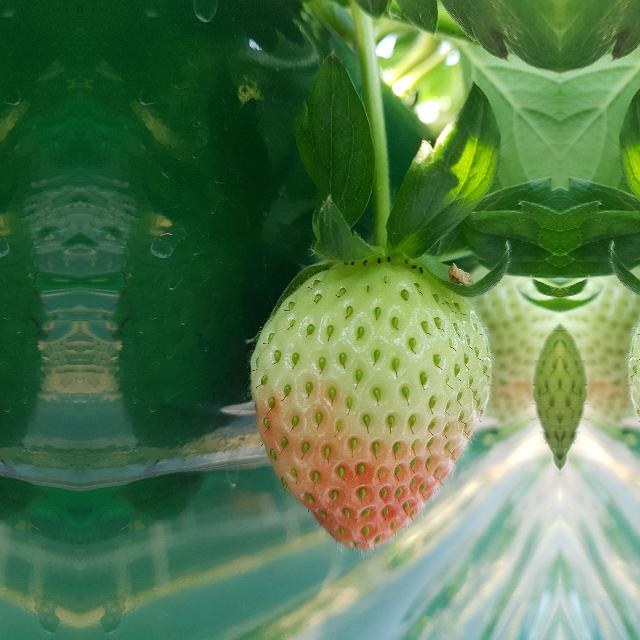Health_50: (248, 262, 494, 554)
